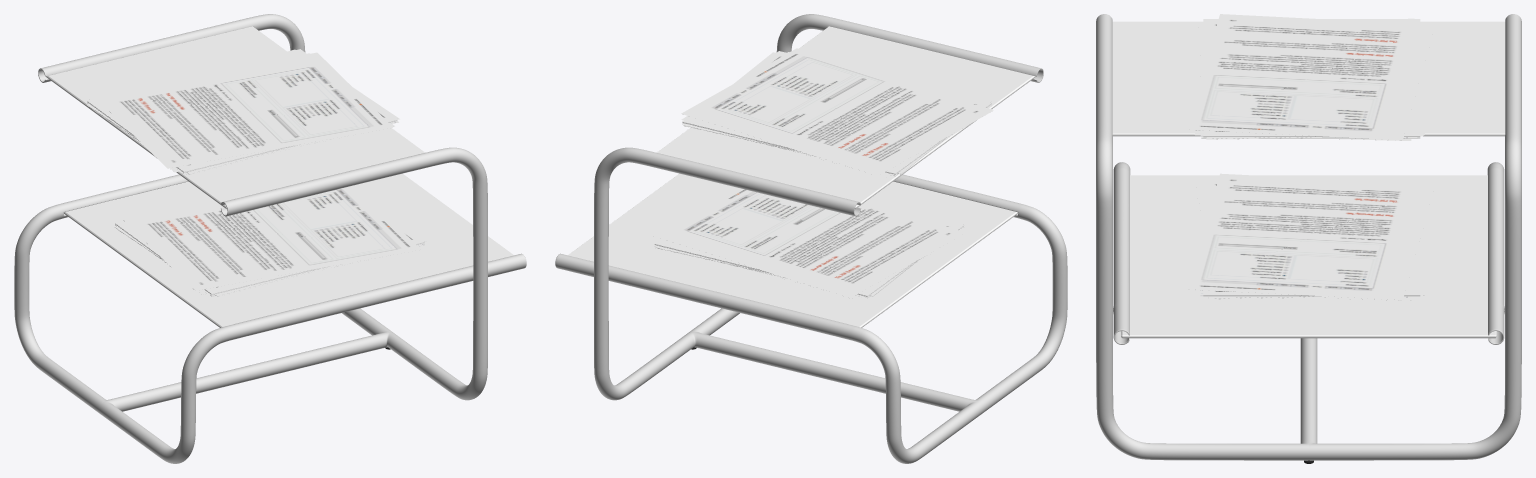
File: GlassTable1.glb
The picture shows the model from 3 angles, left to right: view 1: azimuth 30°, elevation 25°; view 2: azimuth 150°, elevation 25°; view 3: azimuth 270°, elevation 25°; orthographic projection. The views are drawn at different scales.
Visible parts, largest first — view 1: Metal, Plane.015, Plane.001, Glass.001, Glass; view 2: Metal, Plane.015, Plane.001, Glass.001, Glass; view 3: Glass.001, Metal, Plane.001, Plane.015, Glass.
Boxes of the visible parts, box(x1,y1,x2,y2) form: Metal: box(14, 14, 526, 463); Plane.015: box(86, 49, 399, 174); Plane.001: box(114, 185, 427, 296); Glass.001: box(63, 173, 513, 327); Glass: box(46, 26, 424, 208); Metal: box(555, 14, 1067, 463); Plane.015: box(681, 48, 993, 177); Plane.001: box(653, 186, 965, 299); Glass.001: box(568, 173, 1018, 327); Glass: box(657, 26, 1035, 208); Glass.001: box(1121, 175, 1496, 338); Metal: box(1096, 14, 1521, 460); Plane.001: box(1187, 173, 1435, 300); Plane.015: box(1187, 14, 1435, 140); Glass: box(1112, 21, 1505, 136).
Size of the model in its own units: 1.04 by 0.7972 by 0.9994.
Materials: 4 (1 with a texture image).
